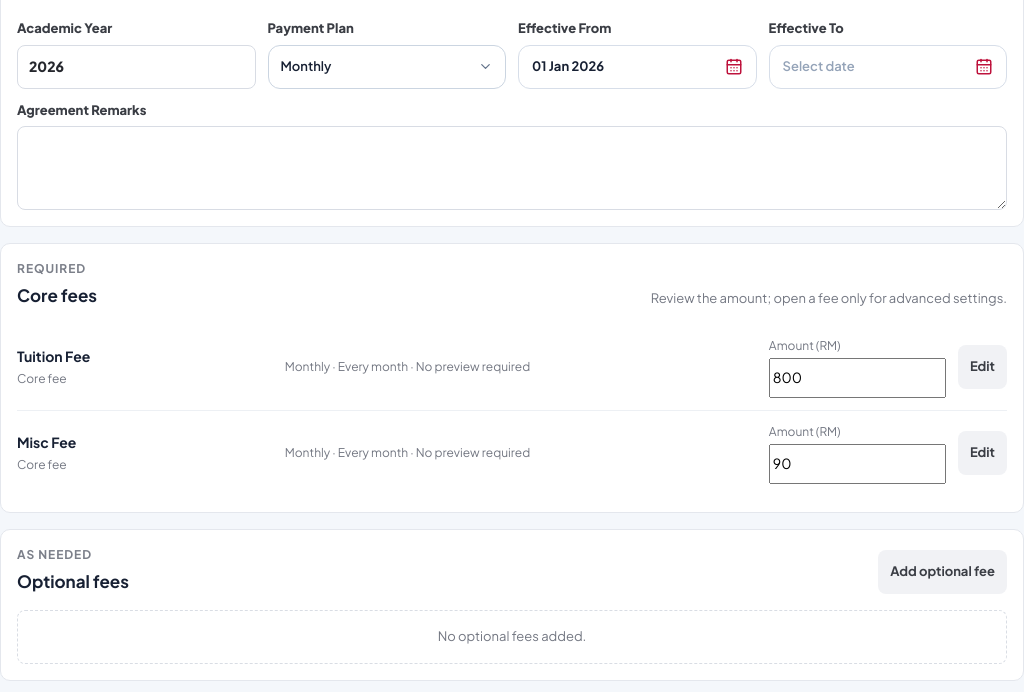
Test case: FeeAgreementEditor › keeps advanced fee controls collapsed until Edit is selected
The width and height of the screenshot is (1024, 692).
(page scrolled)
Expected: the text "Monthly · Every month · No preview required" is shown 2 times, top-left (285, 359), bottom-right (530, 374); top-left (285, 445), bottom-right (530, 460)
Click the button with aria-label "Edit Tuition Fee" at point(982, 367), box top-left (958, 345), bottom-right (1007, 389)
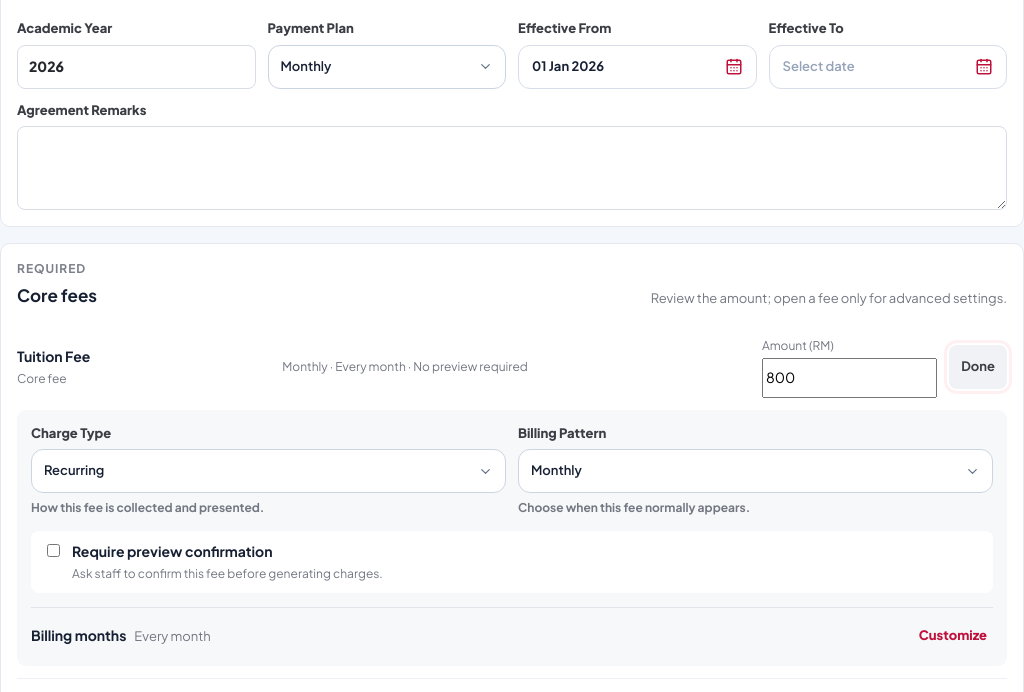
Expected: the label named "Tuition Fee Charge Type" is shown, top-left (31, 424), bottom-right (506, 517)
Expected: the label named "Tuition Fee Billing Pattern" is shown, top-left (518, 424), bottom-right (993, 517)
